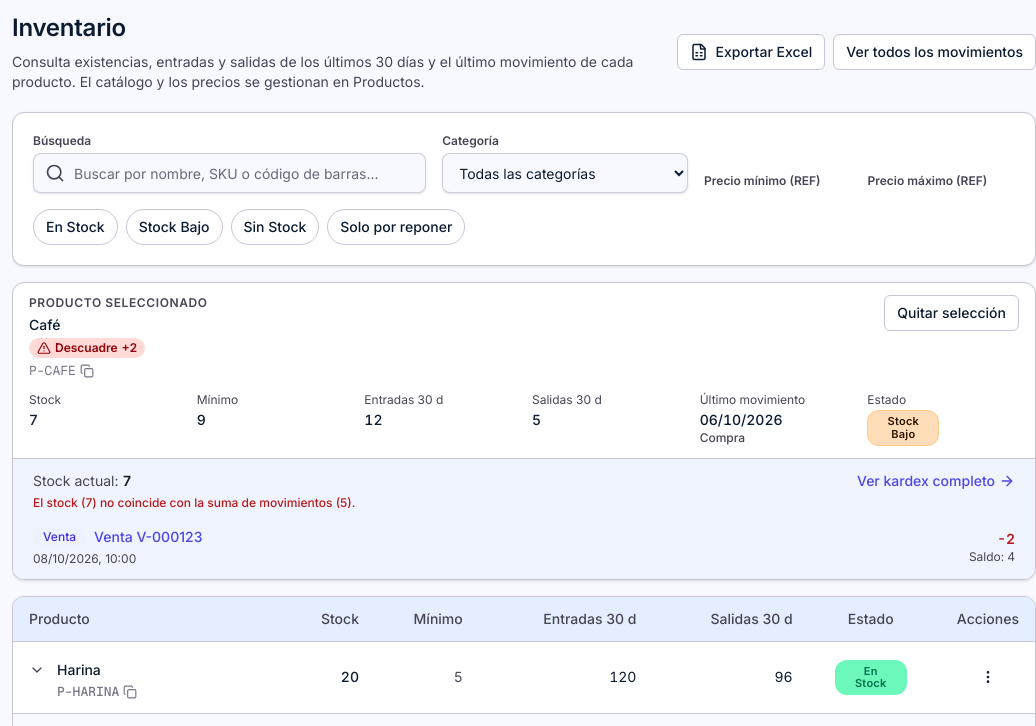
Test case: InventoryListPage · vista única de stock › movimientos en línea › pins the product of the URL above the table when it is not in the page
The width and height of the screenshot is (1036, 726).
Expected: the text titled "Café" is shown, [29,315,60,334]
Expected: the element "Producto seleccionado" shows "P-CAFE", [29,362,76,379]
Click the button "Quitar selección". click: (952, 313)
box: [884,295,1019,331]
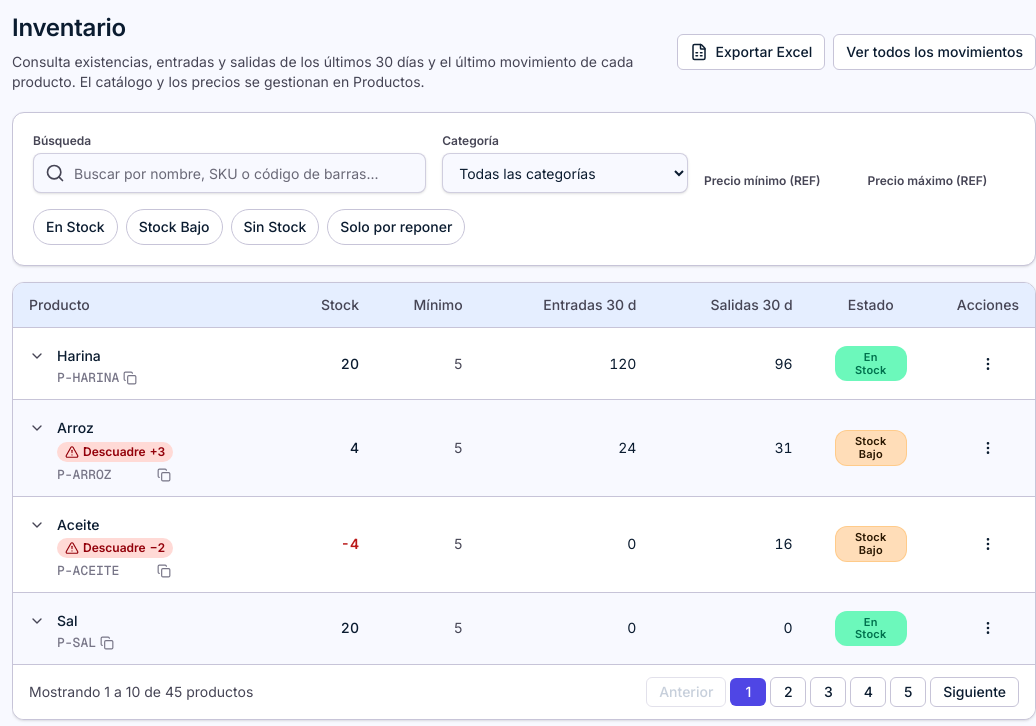
Expected: the row titled "Harina" is shown, [13,328,1035,400]
Expected: the heading "Producto seleccionado" is gone
